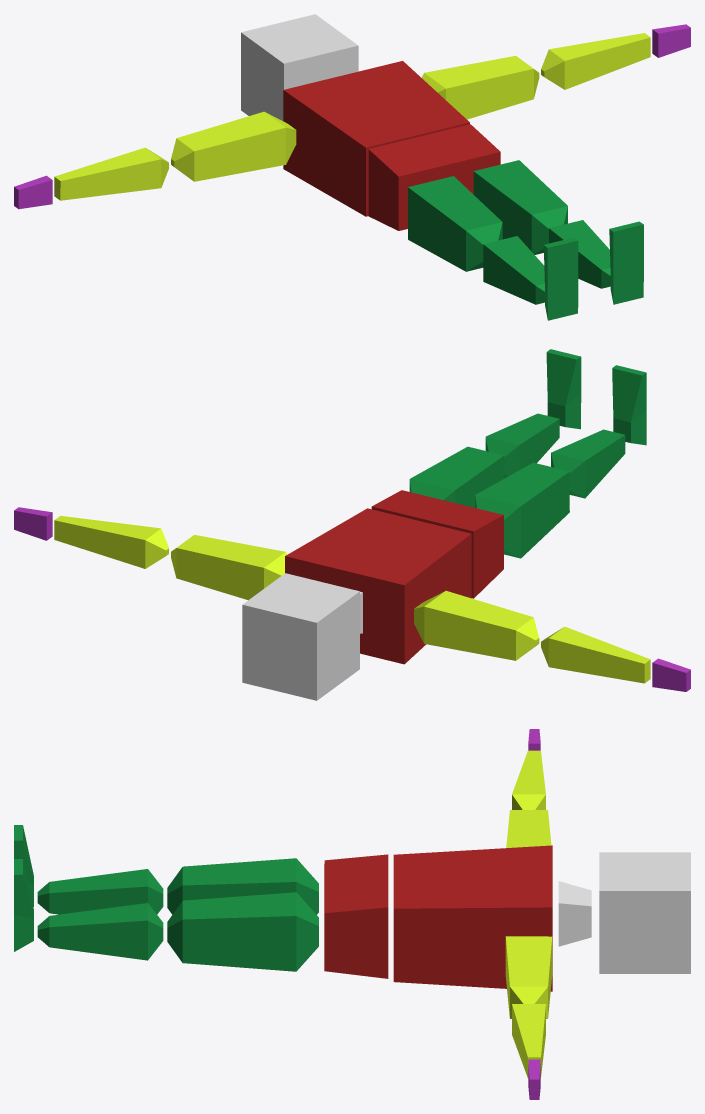
Rendered from robot.dae.
3 renders of one model, top to bottom at view 1: azimuth 30°, elevation 25°; view 2: azimuth 150°, elevation 25°; view 3: azimuth 270°, elevation 25°, orthographic. The views are drawn at different scales.
Parts seen in each view (by area): view 1: Torso, Head, Waist, RightThigh, RightShoulder, LeftThigh, LeftShoulder, RightArm, LeftArm, RightCalve, RightFoot, LeftFoot (+3 smaller); view 2: Torso, Head, RightShoulder, RightThigh, LeftShoulder, Waist, LeftArm, RightArm, LeftThigh, RightCalve, LeftCalve, LeftFoot (+3 smaller); view 3: Torso, Head, LeftThigh, Waist, LeftCalve, RightThigh, RightCalve, LeftShoulder, Neck, LeftArm, RightArm, RightShoulder (+2 smaller).
Part boxes in pixels (x1,y1,x2,y2): Torso: [283, 61, 469, 216]; Head: [241, 14, 358, 120]; Waist: [368, 124, 500, 230]; RightThigh: [408, 176, 502, 271]; RightShoulder: [171, 111, 296, 181]; LeftThigh: [473, 160, 567, 254]; LeftShoulder: [421, 55, 539, 119]; RightArm: [54, 147, 168, 200]; LeftArm: [541, 33, 650, 89]; RightCalve: [483, 236, 544, 304]; RightFoot: [543, 237, 578, 320]; LeftFoot: [609, 221, 643, 304]; Torso: [285, 508, 471, 664]; Head: [242, 573, 359, 700]; RightShoulder: [414, 590, 539, 660]; RightThigh: [475, 462, 569, 558]; LeftShoulder: [171, 535, 287, 600]; Waist: [371, 490, 503, 598]; LeftArm: [54, 515, 168, 568]; RightArm: [541, 626, 650, 683]; LeftThigh: [409, 446, 504, 507]; RightCalve: [551, 429, 625, 498]; LeftCalve: [485, 413, 559, 478]; LeftFoot: [546, 349, 581, 429]; Torso: [393, 845, 552, 991]; Head: [599, 852, 690, 973]; LeftThigh: [167, 892, 318, 971]; Waist: [324, 854, 388, 978]; LeftCalve: [37, 903, 163, 960]; RightThigh: [167, 858, 318, 914]; RightCalve: [37, 869, 163, 914]; LeftShoulder: [505, 936, 552, 1018]; Neck: [558, 881, 591, 946]; LeftArm: [512, 1004, 545, 1077]; RightArm: [512, 750, 545, 809]; RightShoulder: [506, 810, 551, 847].
Size of the model in its own units: 15.94 by 13.07 by 2.35.
